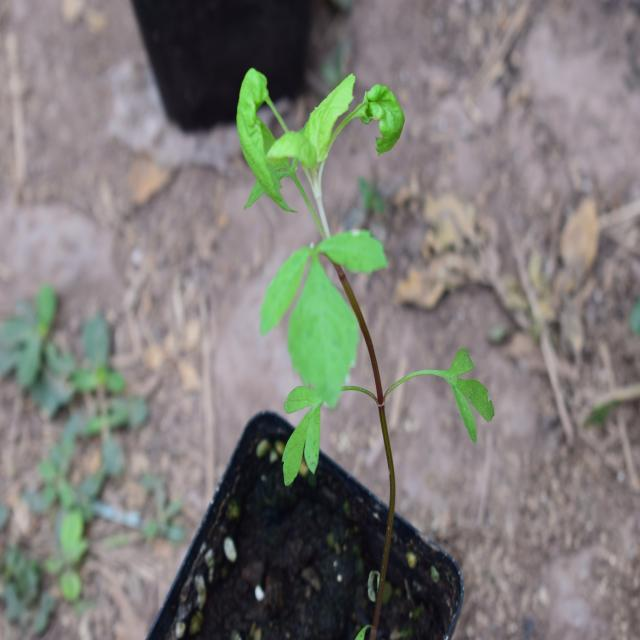Bidens pilosa: (215, 70, 484, 457)
